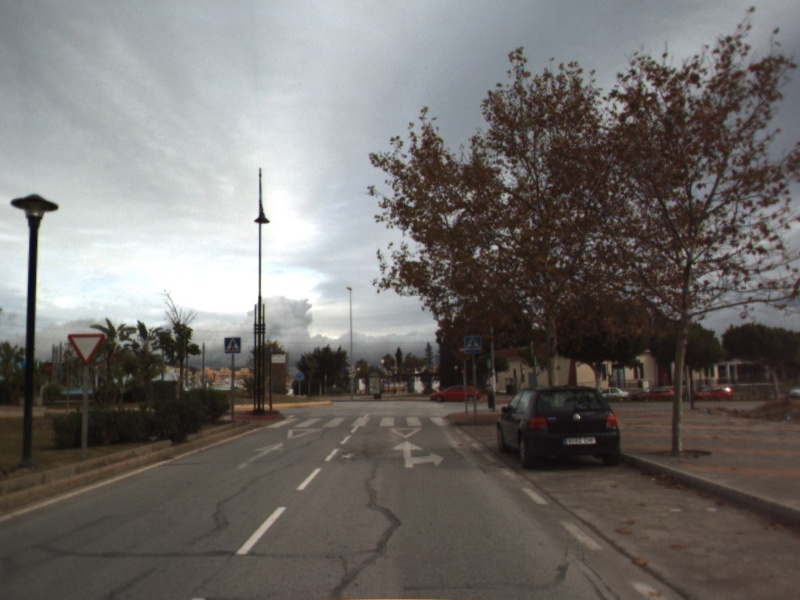STRAIGHT: (234, 440, 286, 471)
STRAIGHT_RIGHT: (391, 439, 446, 470)
